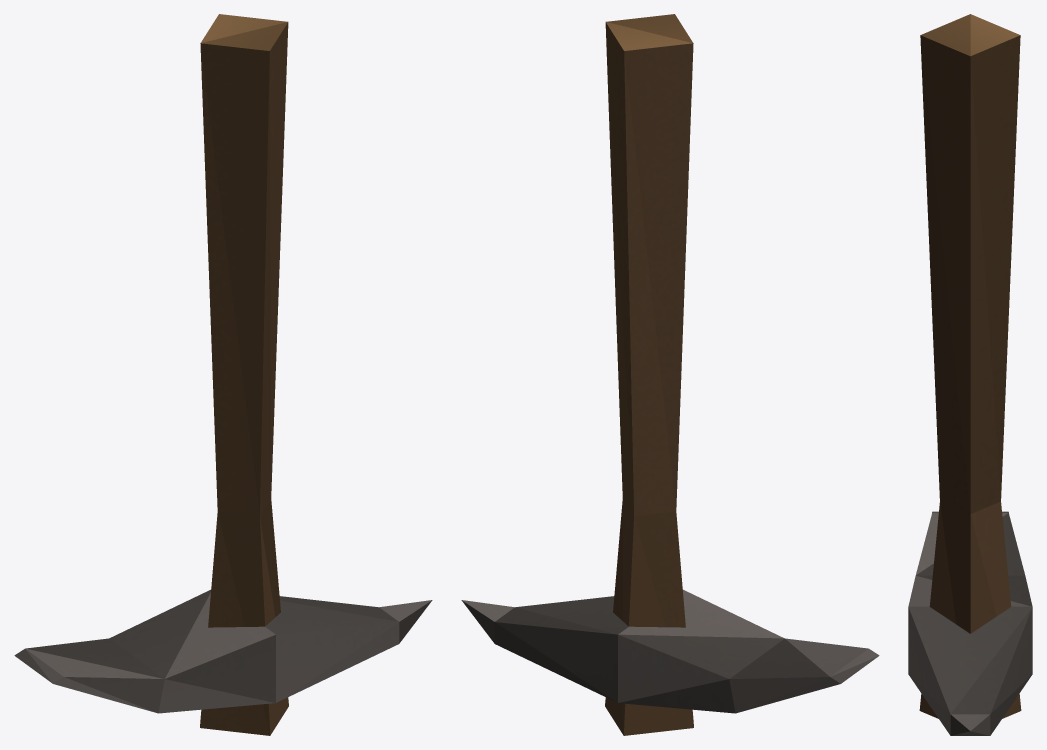
File: Axe.fbx
The picture shows the model from 3 angles, left to right: view 1: azimuth 30°, elevation 25°; view 2: azimuth 150°, elevation 25°; view 3: azimuth 270°, elevation 25°; orthographic projection.
Parts seen in each view (by area): view 1: polySurface464; view 2: polySurface464; view 3: polySurface464.
Boxes of the visible parts, box(x1,y1,x2,y2) form: polySurface464: box(14, 14, 432, 735); polySurface464: box(461, 14, 879, 735); polySurface464: box(908, 14, 1032, 735).
Bounding box in the file's own units: 91.53 × 150 × 25.
Materials: 1 (1 with a texture image).
